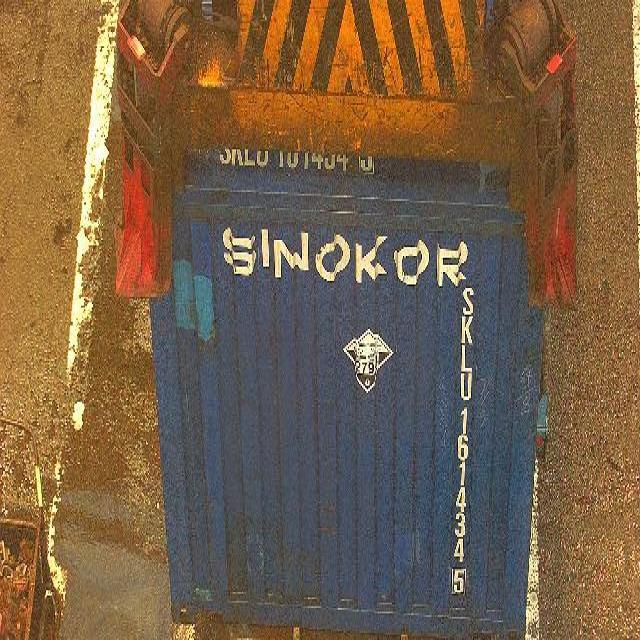container_number: (447, 270, 479, 596)
